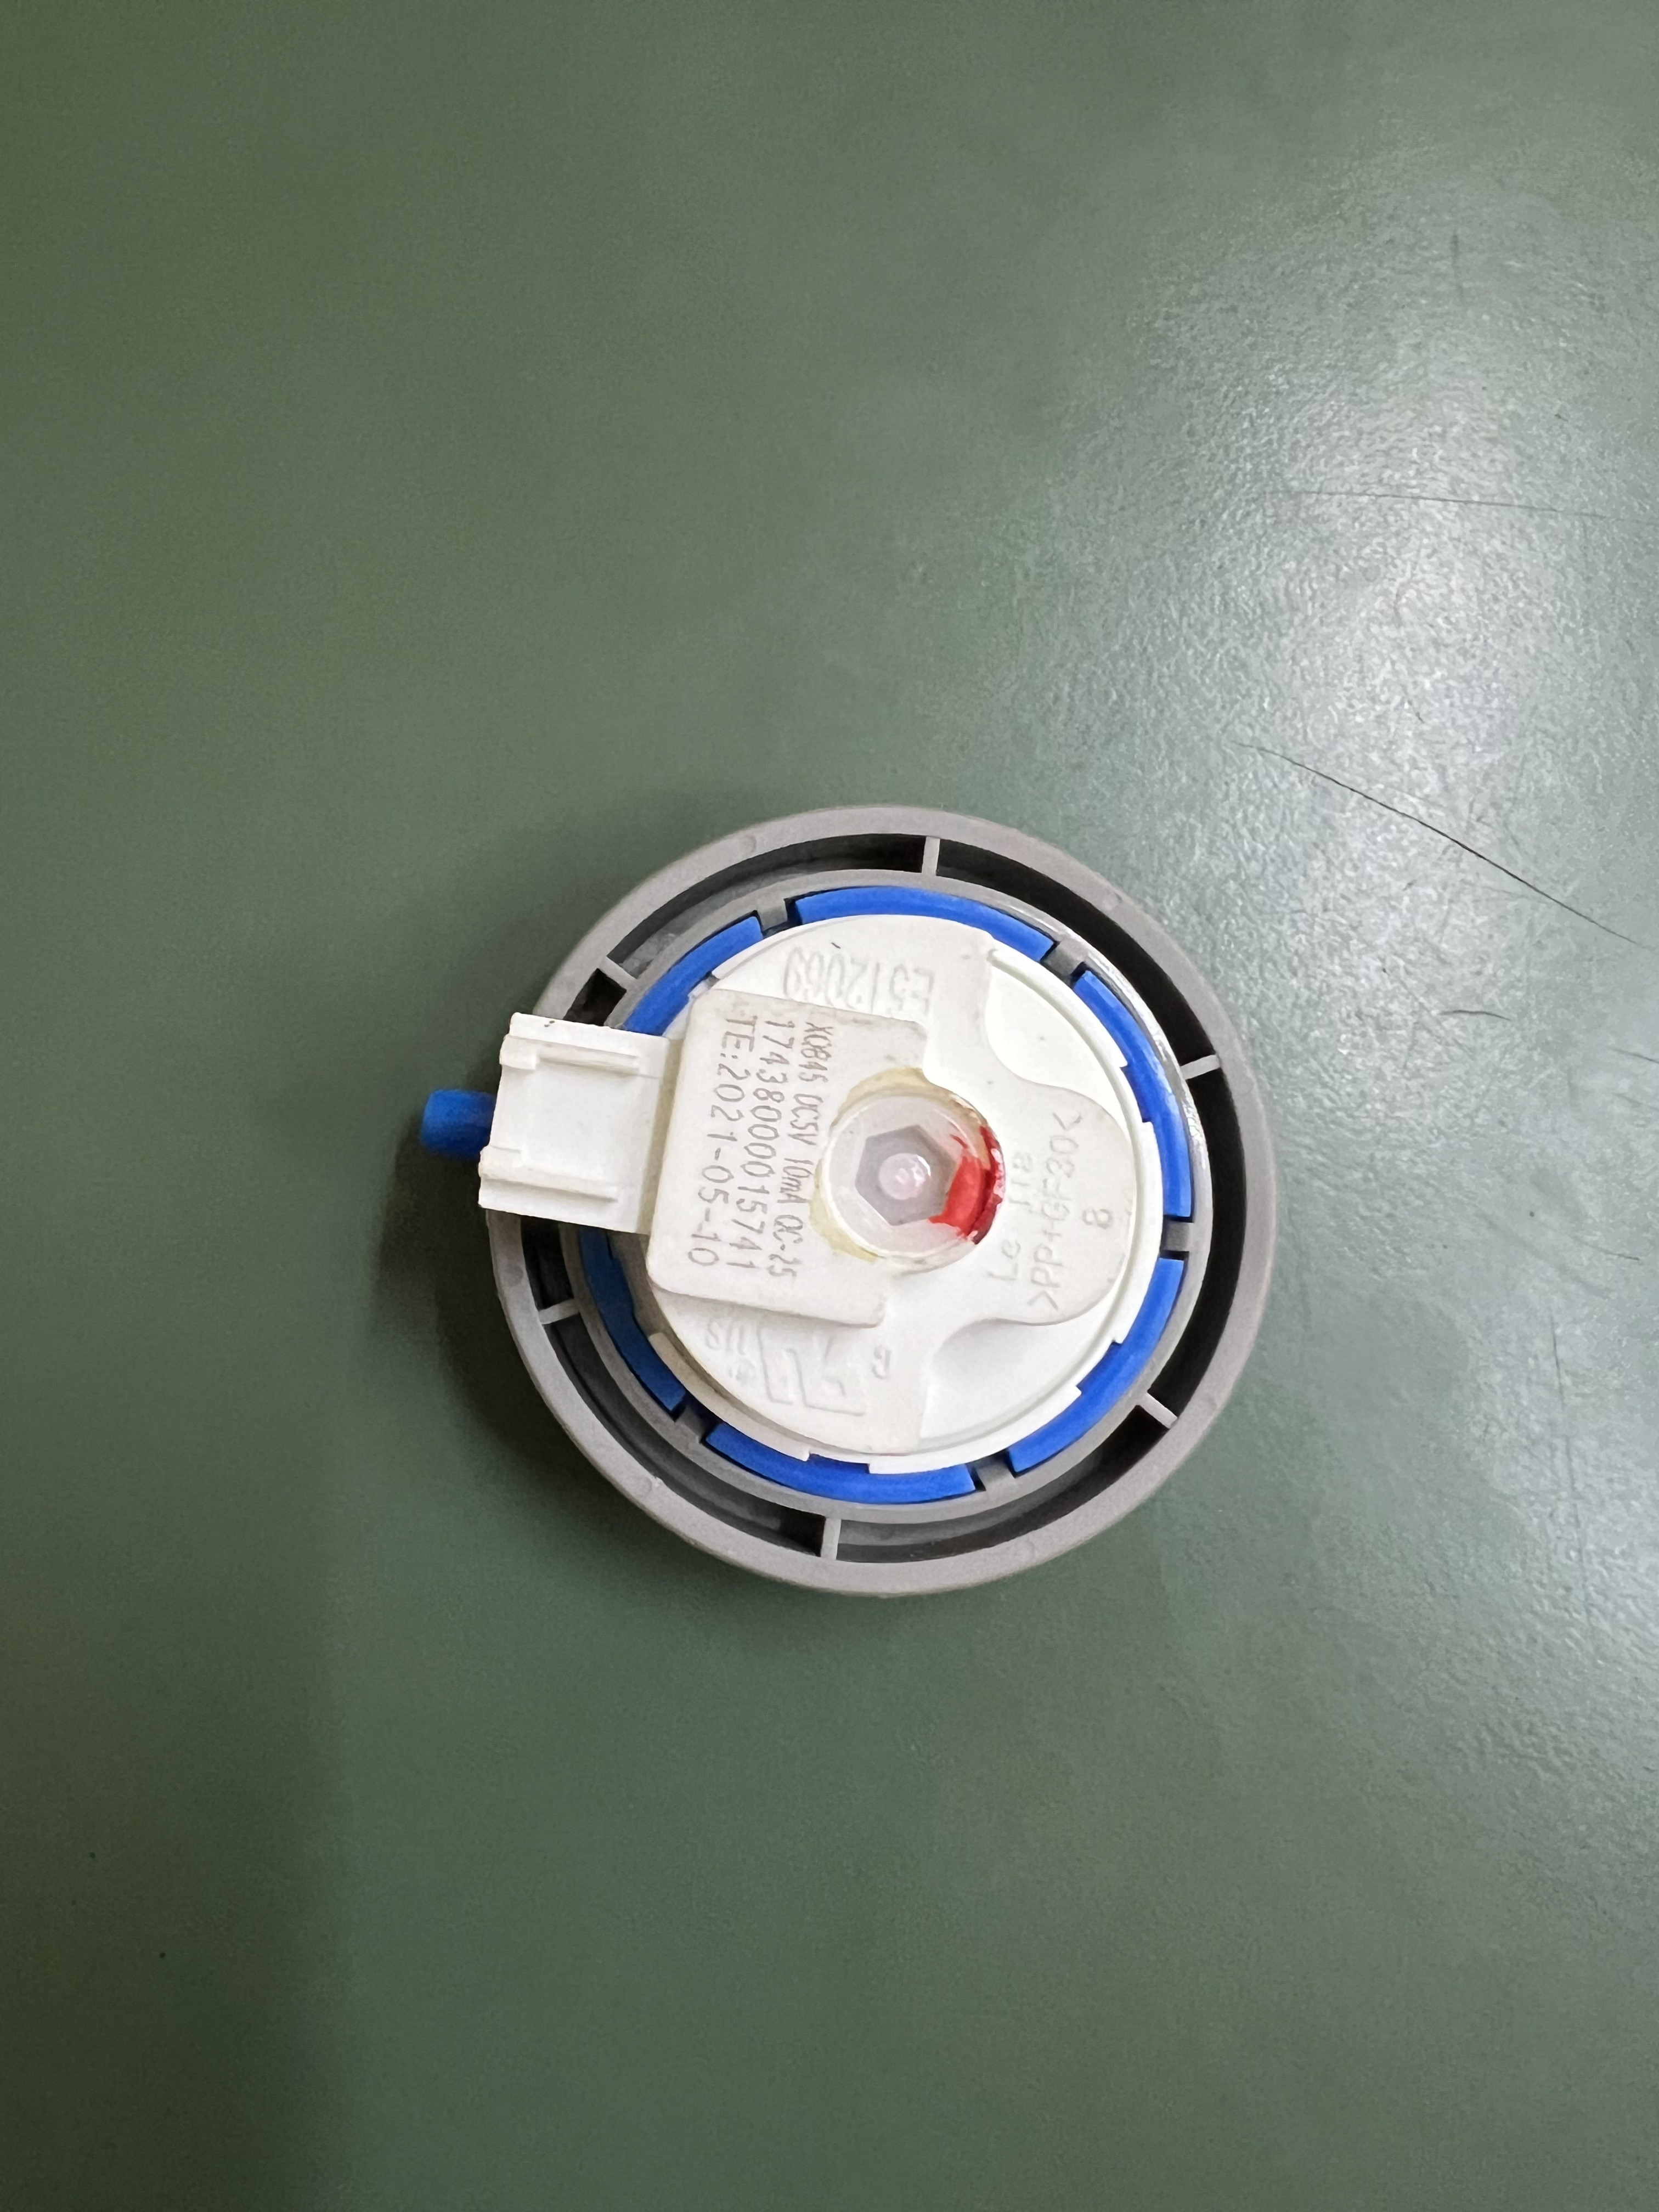pressure_sensor: (423, 792, 1279, 1599)
